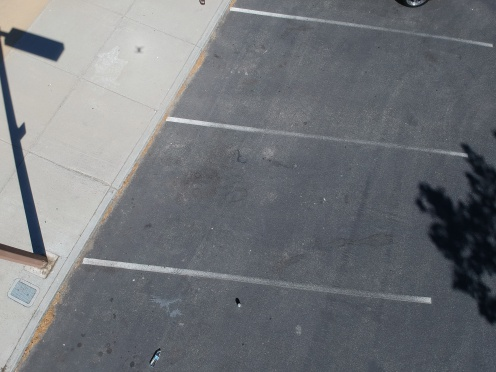bottle: (149, 344, 164, 368)
can: (233, 300, 242, 311)
